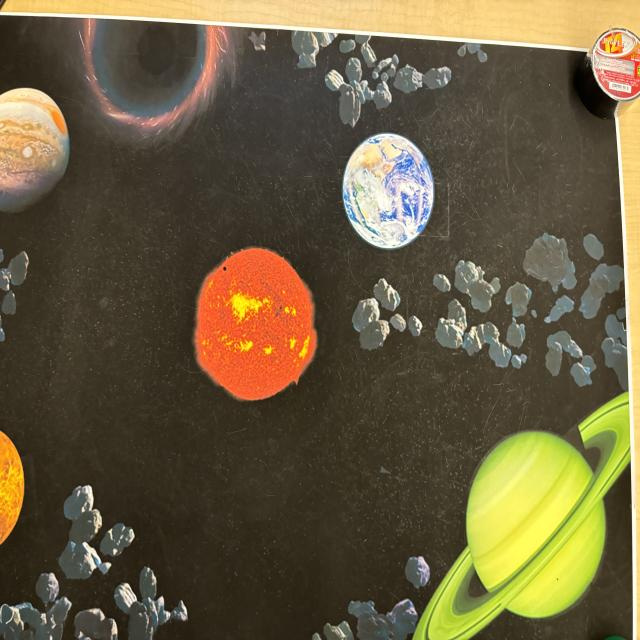Asteroids: (348, 257, 634, 366), (248, 27, 490, 124), (28, 491, 161, 640), (319, 574, 422, 640)
Black Hole: (81, 20, 227, 136)
Earth: (343, 130, 438, 252)
Jupiter: (0, 74, 69, 216)
Saturn: (413, 390, 631, 640)
Sun: (193, 240, 316, 400)
Venus: (0, 417, 25, 546)
